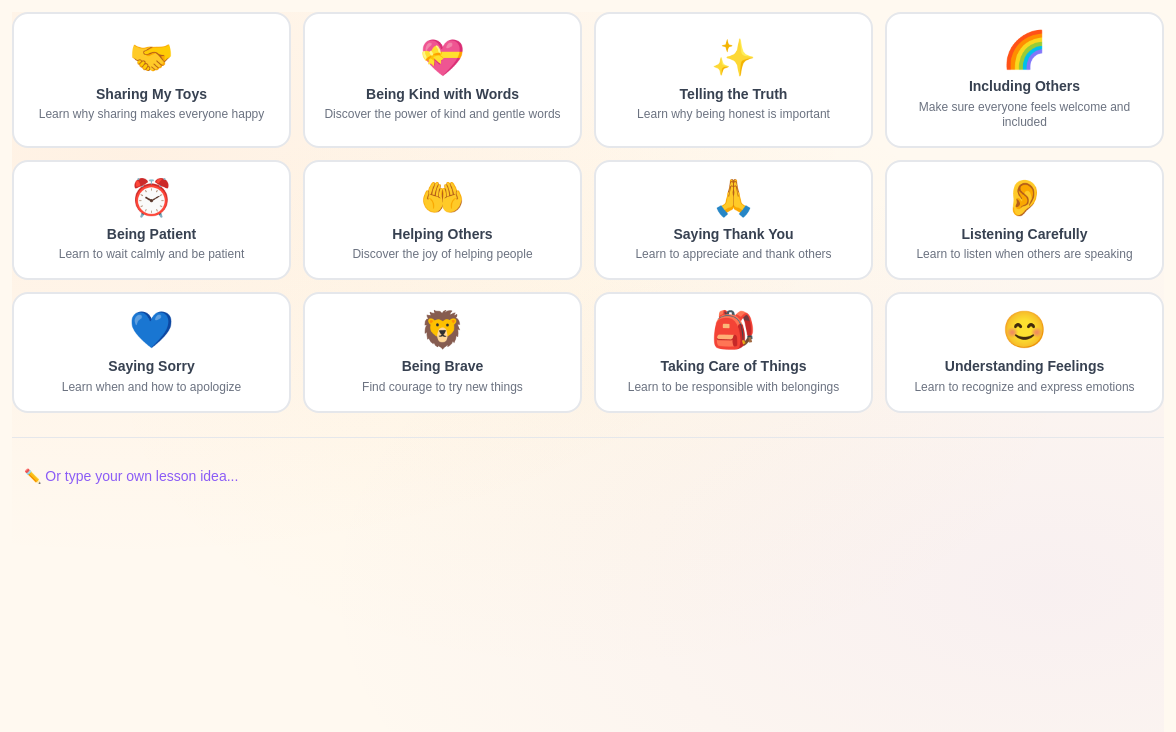
LessonSelector › Custom Lesson Validation (Requirement 4.4, 4.5) › shows child-friendly message when lesson is not appropriate (Requirement 4.5)
Click the button "✏️ Or type your own lesson idea...". click: (131, 476)
box: 12,454 -> 250,498
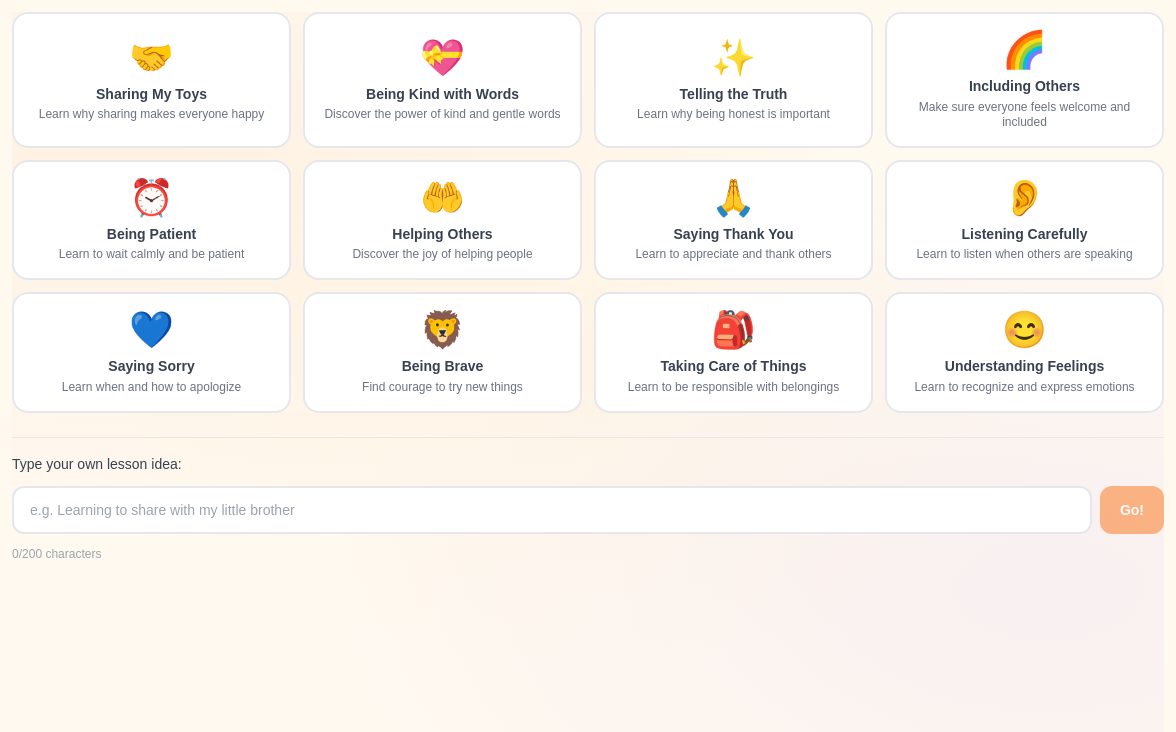
Type "something inappropriate" into the field labelled "Type your own lesson idea:". click: (552, 510)
box: 12,486 -> 1092,534
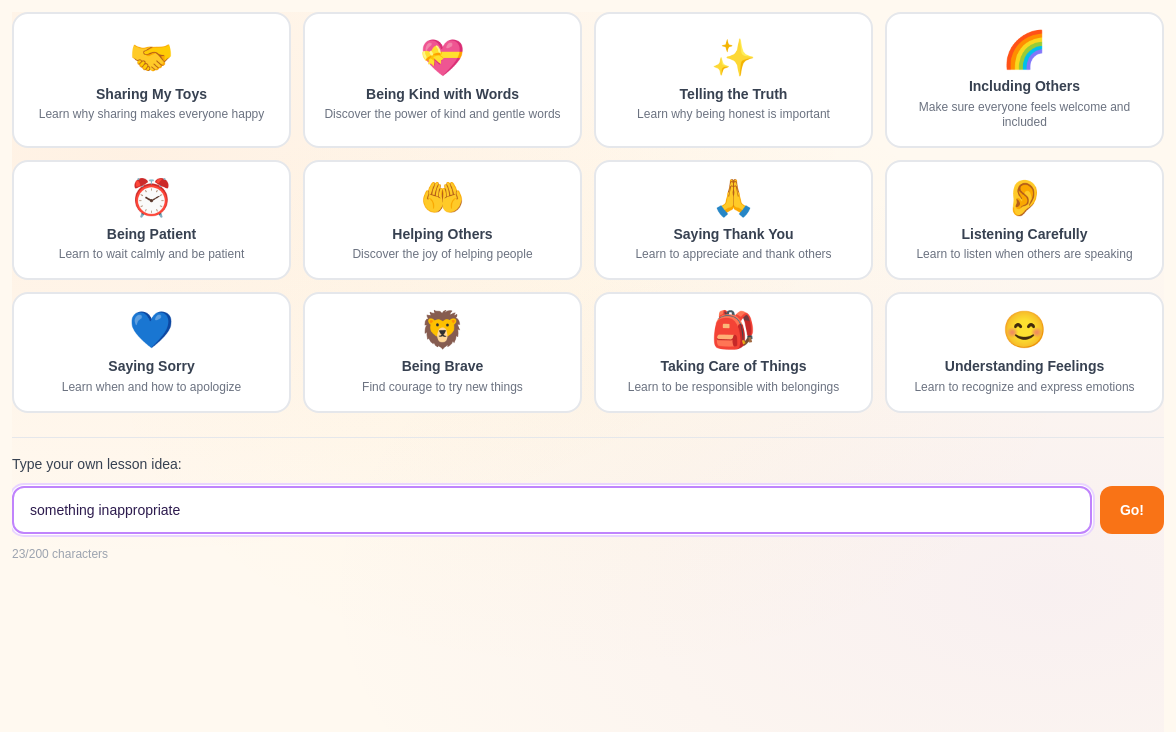
Click the button with aria-label "submit custom lesson". click: (1132, 510)
box: 1100,486 -> 1164,534
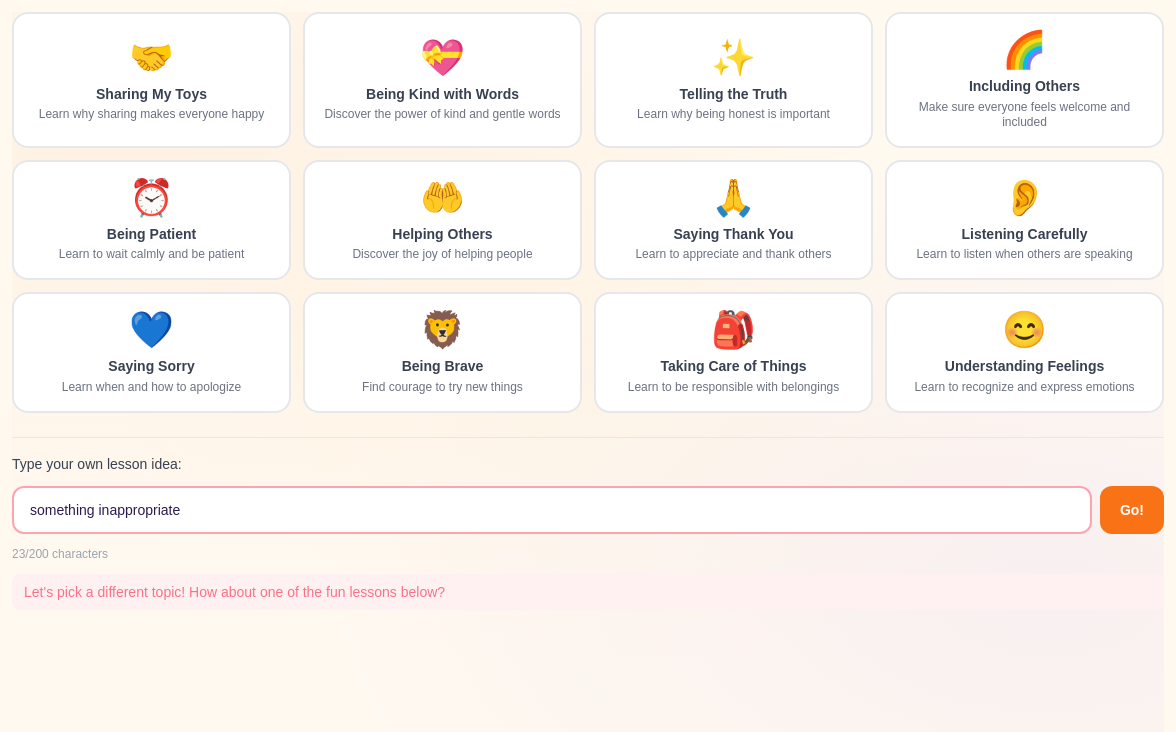
Check: the text "Let's pick a different topic! How about one of the fun lessons below?" is shown, box 12,574 -> 1164,610
